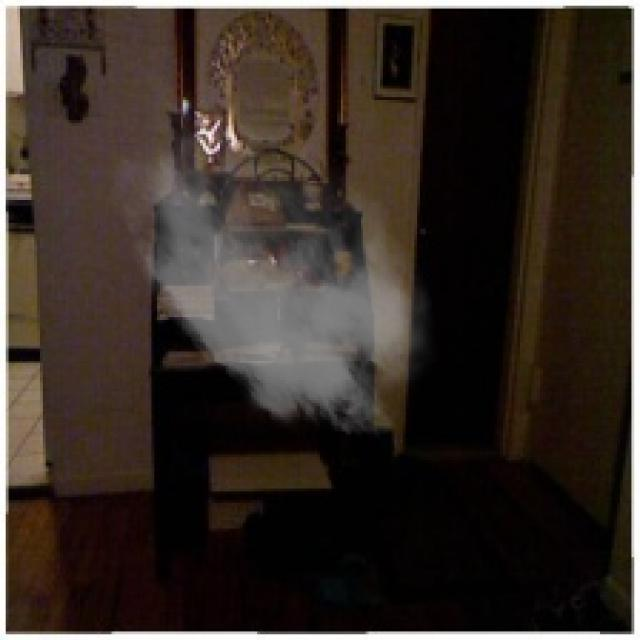Smoke: (102, 77, 448, 449)
